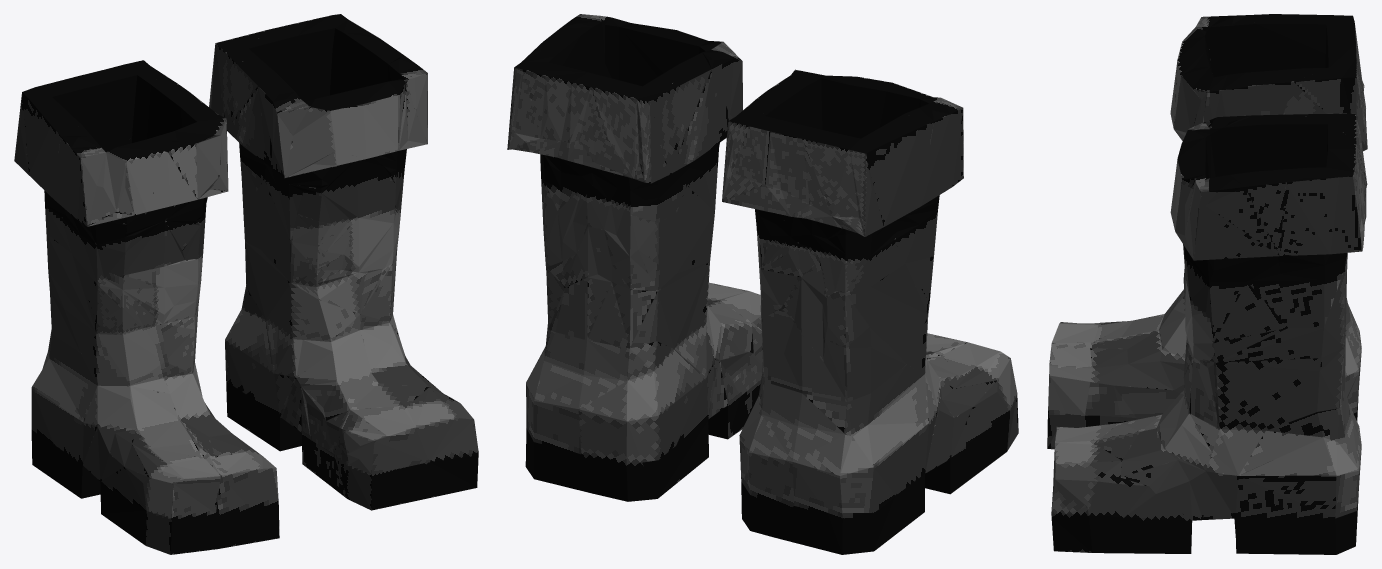
3 views of the same model, side by side, from view 1: azimuth 30°, elevation 25°; view 2: azimuth 150°, elevation 25°; view 3: azimuth 270°, elevation 25° (orthographic). The views are drawn at different scales.
Parts seen in each view (by area): view 1: OBJ02a; view 2: OBJ02a; view 3: OBJ02a.
Boxes of the visible parts, left/top/right/bottom form: OBJ02a: left=14, top=14, right=478, bottom=554; OBJ02a: left=507, top=14, right=1018, bottom=554; OBJ02a: left=1047, top=14, right=1367, bottom=554.
Bounding box in the file's own units: 0.2435 × 0.2464 × 0.188.
1 material, 1 textured.
